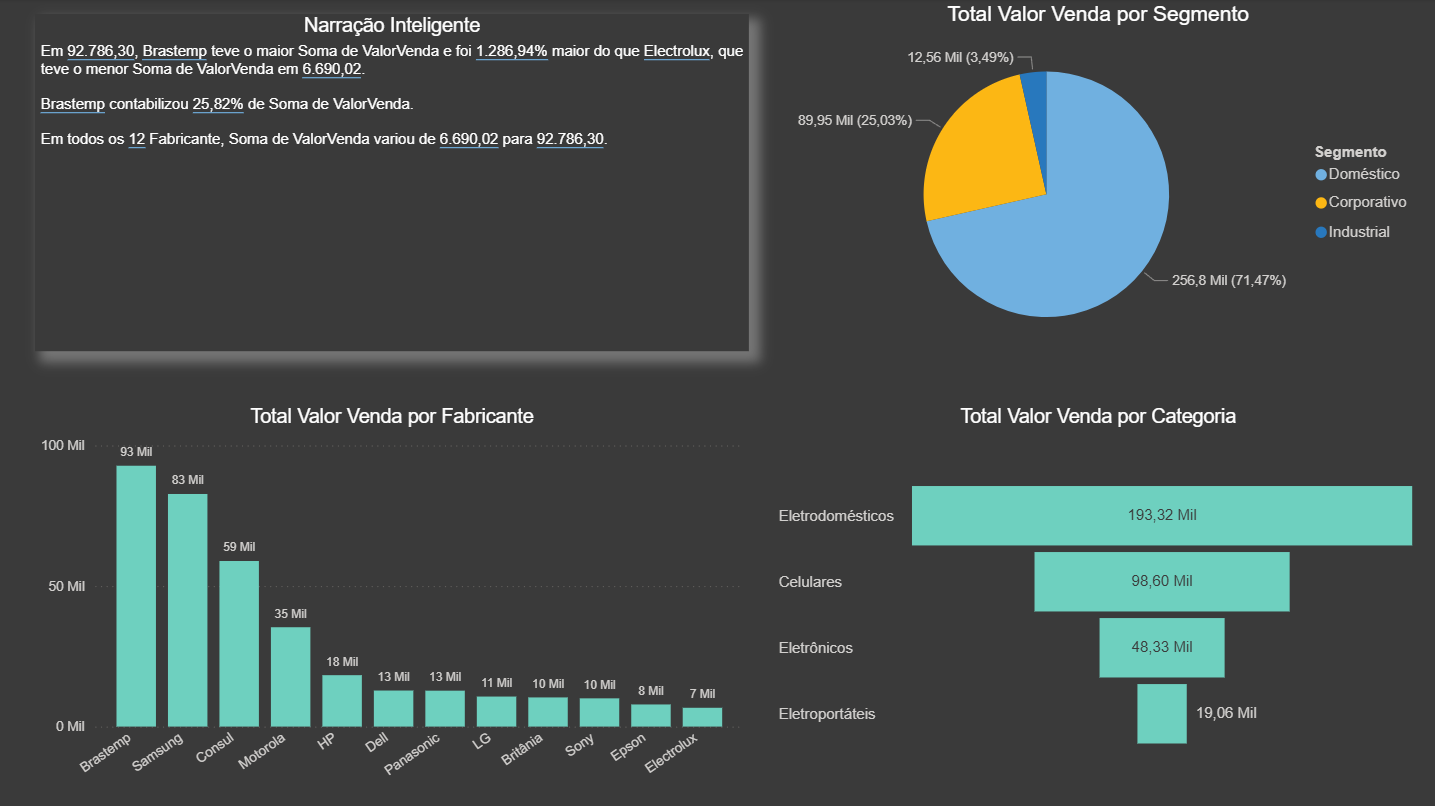

The dashboard page shown, as its layout file describes it:
{"tool":"powerbi","page":{"name":"Narrativa Inteligente","canvas":[1280,720],"ordinal":1},"visuals":[{"type":"pieChart","fields":{"Category":["Vendas.Segmento"],"Y":["Sum(Vendas.ValorVenda)"]},"box":[688.6,2.9,576.8,320],"z":0},{"type":"clusteredColumnChart","title":"Total Valor Venda por Fabricante","fields":{"Category":["Vendas.Fabricante"],"Y":["Sum(Vendas.ValorVenda)"]},"box":[35,359.9,633.2,350.2],"z":1000},{"type":"funnel","title":"Total Valor Venda por Categoria","fields":{"Category":["Vendas.Categoria"],"Y":["Sum(Vendas.ValorVenda)"]},"box":[688.6,359.9,576.8,350.2],"z":2000},{"type":"textbox","title":"Narração Inteligente","box":[35,13.6,633.2,298.6],"z":3000}]}

Visuals, with their boxes in screenshot pixels (x1, y1, x2, y2), scaled from the page's 1280x720 canvas onto the 1435x806 screenshot:
pieChart - Vendas.Segmento x Sum(Vendas.ValorVenda): box(772, 3, 1419, 361)
"Total Valor Venda por Fabricante" clusteredColumnChart: box(39, 403, 749, 795)
"Total Valor Venda por Categoria" funnel: box(772, 403, 1419, 795)
"Narração Inteligente" textbox: box(39, 15, 749, 349)
